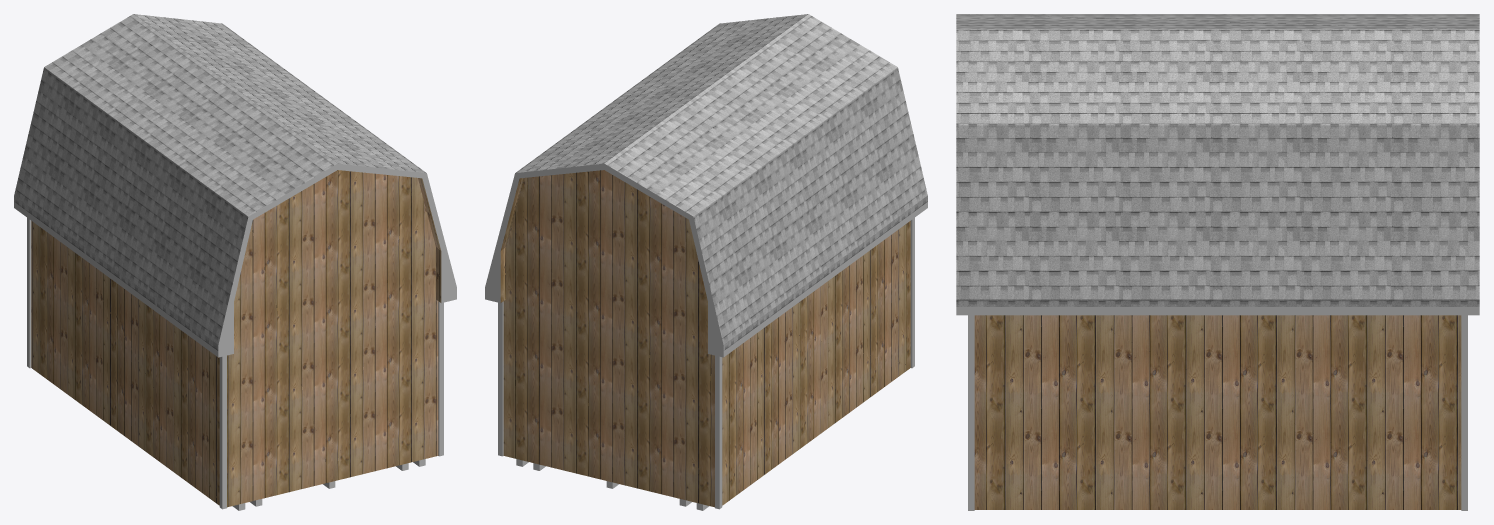
Rendered from Two Story Gambrel_12x18.obj.
3 views of the same model, side by side, from view 1: azimuth 30°, elevation 25°; view 2: azimuth 150°, elevation 25°; view 3: azimuth 270°, elevation 25° (orthographic). The views are drawn at different scales.
Visible parts, largest first — view 1: Shed, Roof, Sides, Trim; view 2: Shed, Roof, Sides, Trim; view 3: Roof, Shed, Sides, Trim.
Boxes of the visible parts, left/top/right/bottom form: Shed: left=31, top=170, right=441, bottom=507; Roof: left=14, top=14, right=425, bottom=350; Sides: left=14, top=163, right=456, bottom=357; Trim: left=27, top=218, right=443, bottom=509; Shed: left=500, top=170, right=910, bottom=507; Roof: left=516, top=14, right=927, bottom=350; Sides: left=485, top=163, right=927, bottom=357; Trim: left=498, top=218, right=914, bottom=509; Roof: left=956, top=14, right=1479, bottom=306; Shed: left=974, top=315, right=1461, bottom=509; Sides: left=956, top=307, right=1479, bottom=315; Trim: left=968, top=315, right=1467, bottom=510.
Size of the model in its own units: 3.9 by 5.14 by 5.79.
